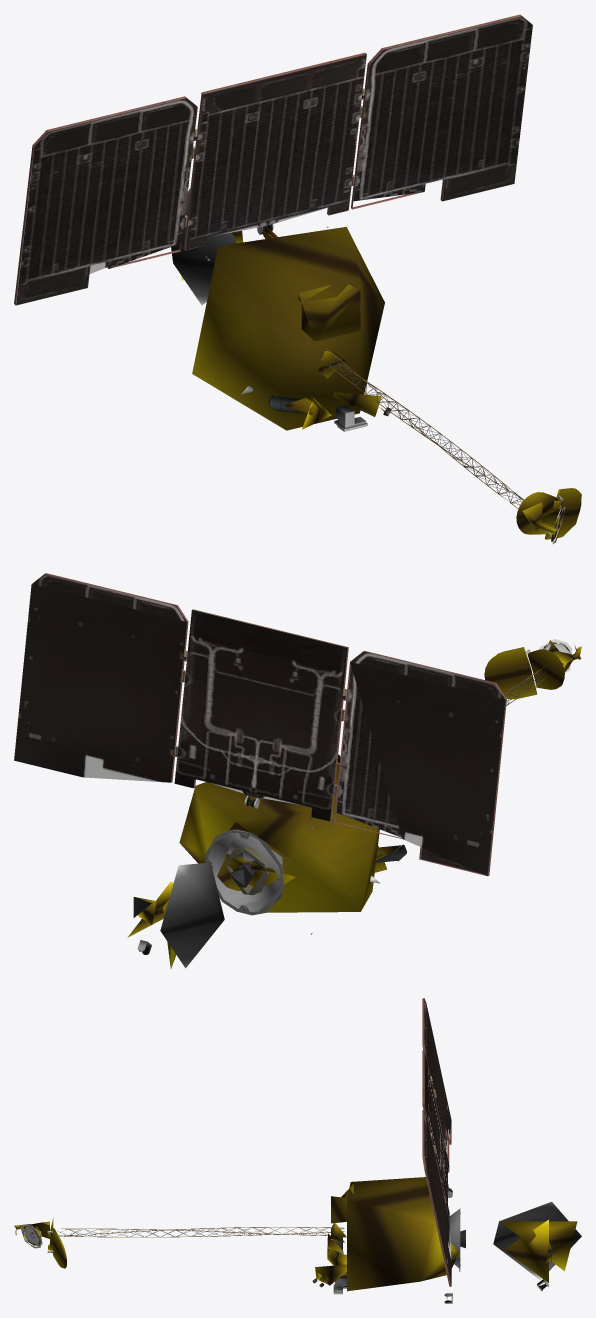
File: odyssey.glb
3 renders of one model, top to bottom at view 1: azimuth 30°, elevation 25°; view 2: azimuth 150°, elevation 25°; view 3: azimuth 270°, elevation 25°, orthographic. The views are drawn at different scales.
Visible parts, largest first — view 1: shiny_panel, foil_gold, foil_silver, tex_boom, tex_01, tex_AO_2; view 2: tex_01, shiny_panel, foil_gold, foil_silver, tex_04; view 3: foil_gold, shiny_panel, tex_01, tex_boom, foil_silver, tex_AO_2.
Part boxes in pixels (bbox=[...]): shiny_panel: bbox=[14, 14, 532, 305]; foil_gold: bbox=[181, 227, 581, 542]; foil_silver: bbox=[171, 188, 236, 305]; tex_boom: bbox=[319, 348, 523, 508]; tex_01: bbox=[89, 88, 563, 536]; tex_AO_2: bbox=[257, 224, 391, 431]; tex_01: bbox=[14, 584, 537, 952]; shiny_panel: bbox=[32, 573, 506, 915]; foil_gold: bbox=[127, 640, 581, 969]; foil_silver: bbox=[133, 862, 224, 968]; tex_04: bbox=[224, 846, 380, 895]; foil_gold: bbox=[14, 1177, 577, 1291]; shiny_panel: bbox=[422, 998, 460, 1286]; tex_01: bbox=[47, 1003, 546, 1289]; tex_boom: bbox=[55, 1227, 344, 1237]; foil_silver: bbox=[493, 1202, 581, 1280]; tex_AO_2: bbox=[312, 1187, 548, 1303].
Bounding box in the file's own units: 5.67 × 3.36 × 8.19.
9 materials, 9 textured.
